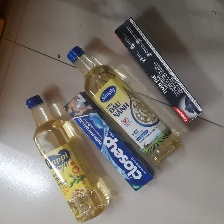CloseUp Tuyet: (64, 92, 154, 192)
Colgate Than: (113, 16, 203, 126)
Happy Soya: (26, 94, 110, 222)
Simply: (67, 45, 181, 166)
